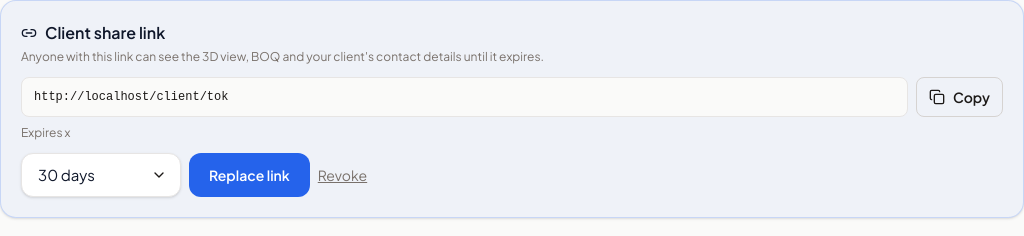
it: ShareLinkPanel › revokes the link
Click the button "Revoke" at (342, 175), box [318,165,367,185]
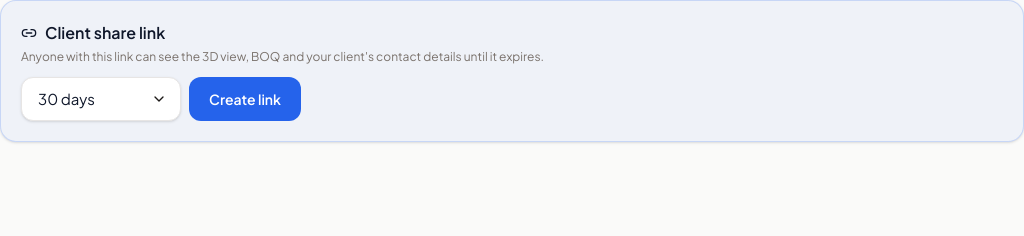
Now the button "Create link" is shown, box [189,77,301,121]
